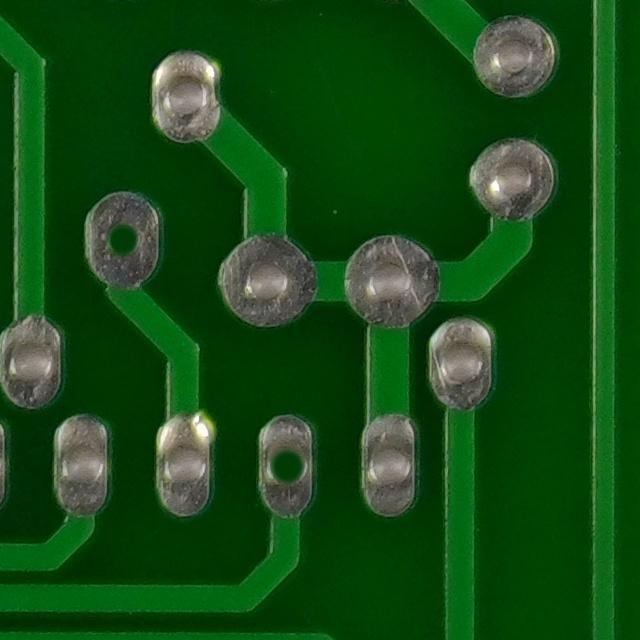missing_hole: (250, 428, 327, 509), (90, 197, 160, 277)
